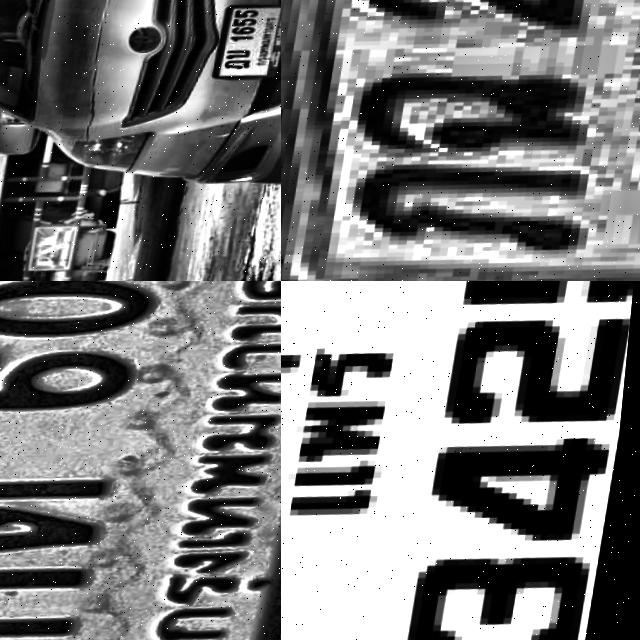license-plate: (281, 281, 640, 640), (281, 0, 640, 281), (0, 281, 281, 640), (220, 5, 281, 93)
